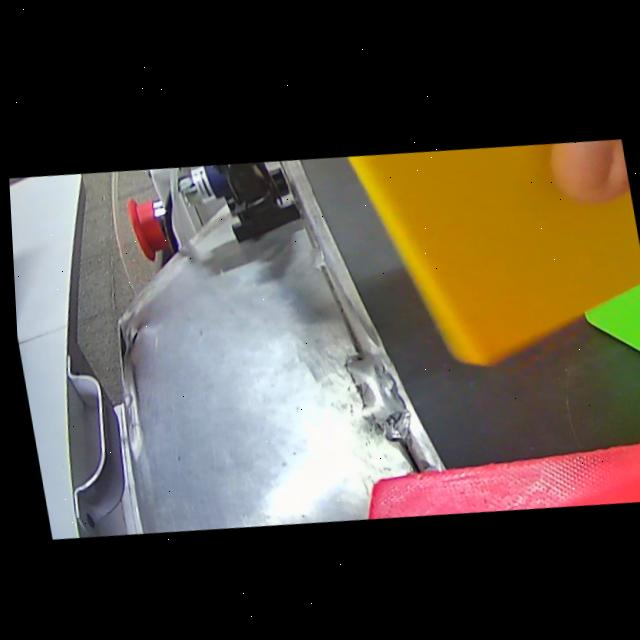greenBox: (551, 157, 640, 433)
redBox: (345, 406, 640, 528)
yellowBox: (286, 115, 640, 397)
